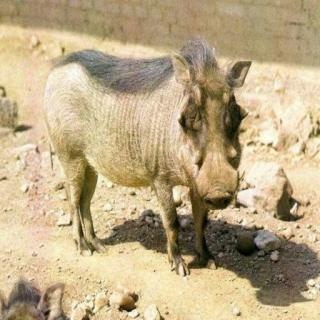Pig: (44, 34, 252, 268)
